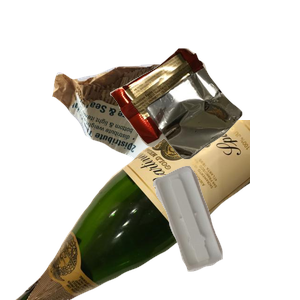cardboard: (50, 62, 228, 226)
glass: (13, 120, 253, 300)
plastic: (150, 163, 300, 300)
trash: (107, 46, 300, 198)
